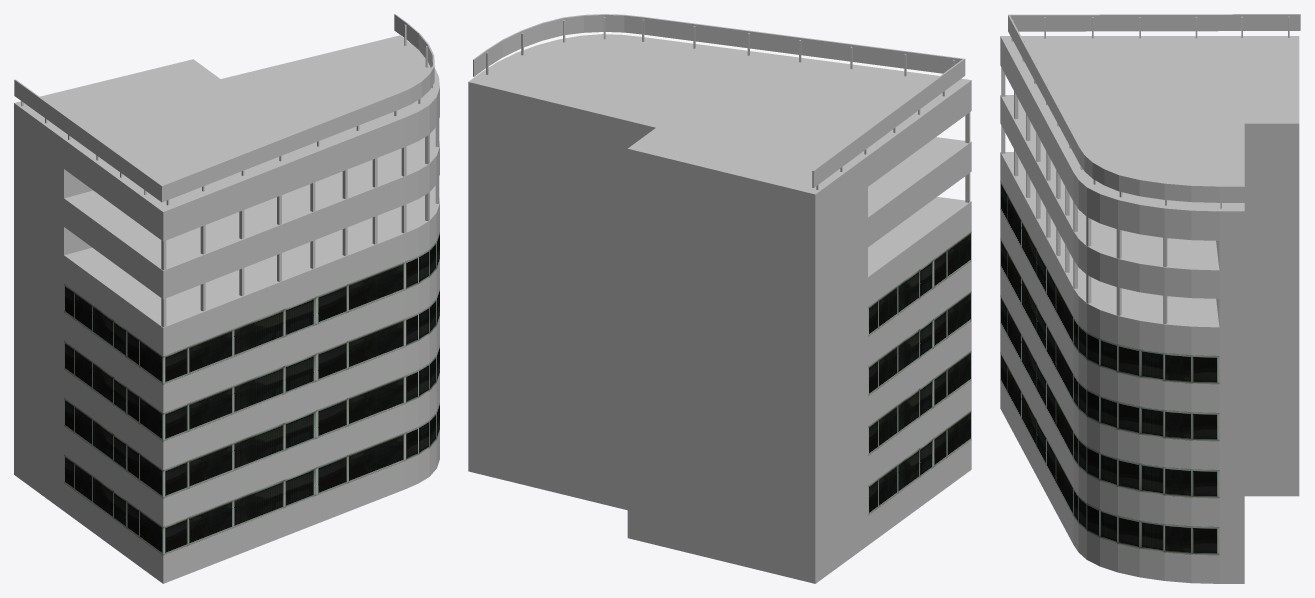
The model's file is Building-G-01.fbx.
The picture shows the model from 3 angles, left to right: view 1: azimuth 30°, elevation 25°; view 2: azimuth 150°, elevation 25°; view 3: azimuth 270°, elevation 25°; orthographic projection. The views are drawn at different scales.
Visible parts, largest first — view 1: Building-G-01; view 2: Building-G-01; view 3: Building-G-01.
Part boxes in pixels (left/top/right/bottom): Building-G-01: left=14, top=14, right=439, bottom=583; Building-G-01: left=468, top=14, right=971, bottom=583; Building-G-01: left=1000, top=14, right=1300, bottom=583.
Size of the model in its own units: 2442 by 2565 by 1767.
